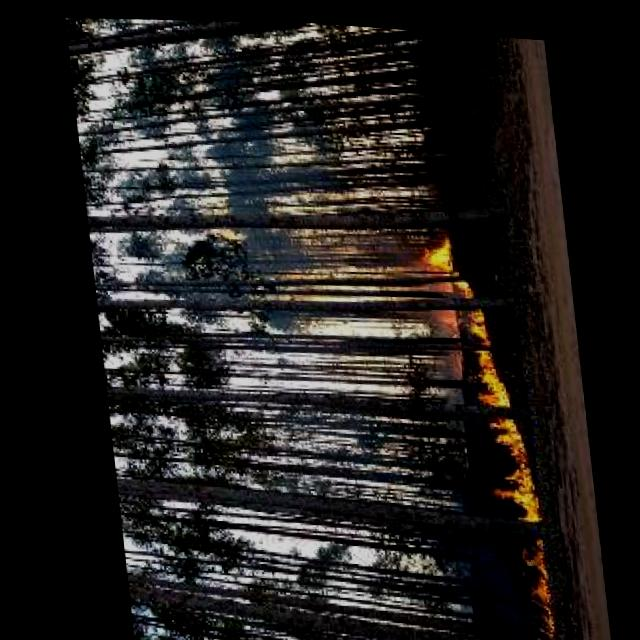Fire: (480, 417, 534, 514), (507, 532, 553, 640), (410, 214, 468, 294), (463, 340, 508, 405), (459, 297, 484, 338)
